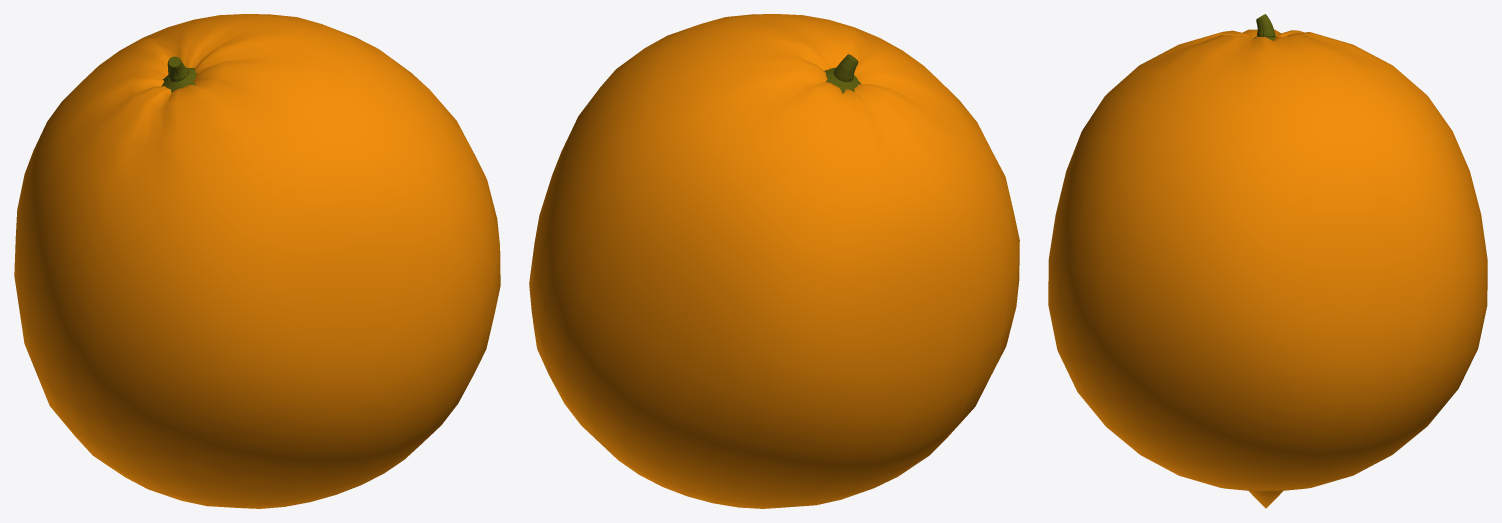
Rendered from orange.glb.
3 renders of one model, left to right at view 1: azimuth 30°, elevation 25°; view 2: azimuth 150°, elevation 25°; view 3: azimuth 270°, elevation 25°, orthographic. The views are drawn at different scales.
Parts seen in each view (by area): view 1: Orange; view 2: Orange; view 3: Orange.
Part boxes in pixels (x1,y1,x2,y2): Orange: [14, 14, 500, 508]; Orange: [529, 14, 1019, 508]; Orange: [1048, 14, 1487, 508].
Size of the model in its own units: 0.0699 by 0.0715 by 0.0673.
